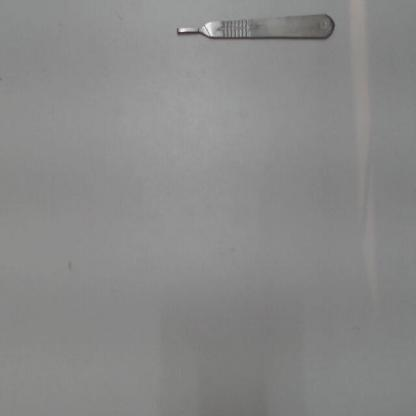No.3 BP Handle: (172, 14, 338, 43)
